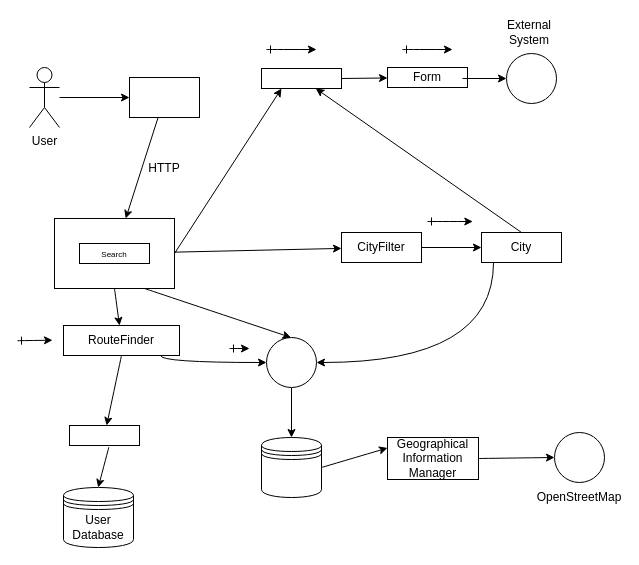
This 639x565 diagram has some shape labels left out. Here are the shapes that lost their labels. From the top down, the centre of each, then its label:
the point at 164,97: App UI
the point at 301,78: Contact
the point at 104,435: User Cache
the point at 291,467: Database
